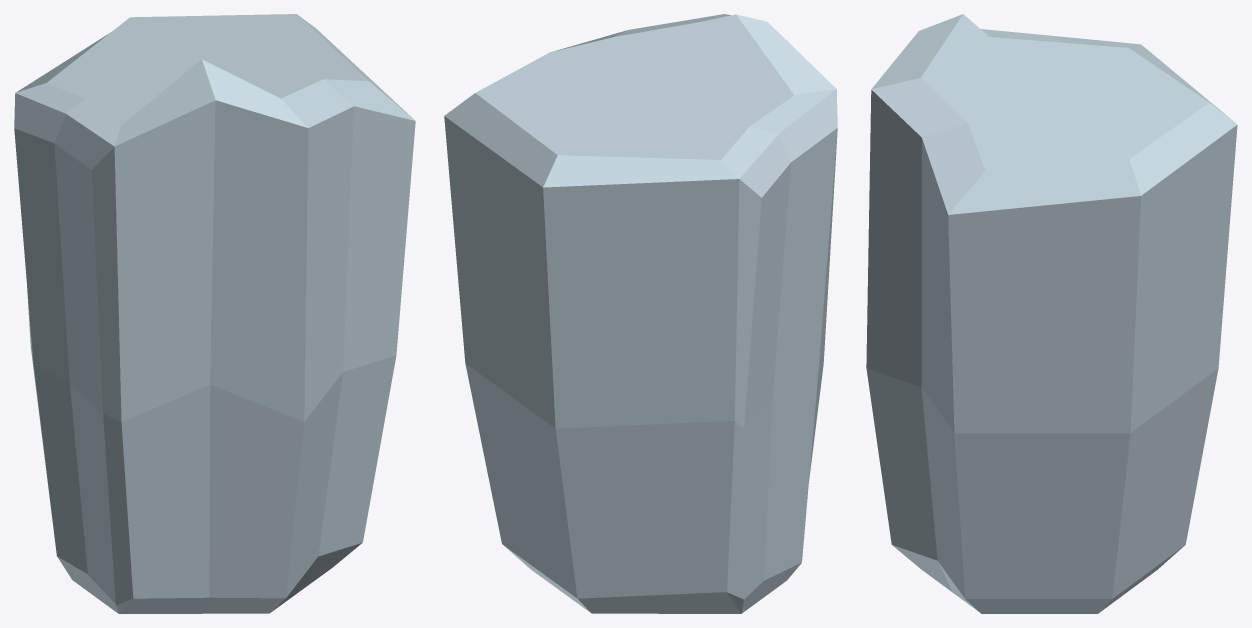
File: RockWall.fbx
The picture shows the model from 3 angles, left to right: view 1: azimuth 30°, elevation 25°; view 2: azimuth 150°, elevation 25°; view 3: azimuth 270°, elevation 25°; orthographic projection. The views are drawn at different scales.
Visible parts, largest first — view 1: Rock1; view 2: Rock1; view 3: Rock1.
Boxes of the visible parts, x1,y1,x2,y2 form: Rock1: (14,14,415,613); Rock1: (444,14,837,613); Rock1: (866,14,1237,613).
Bounding box in the file's own units: 728 × 1221 × 770.
